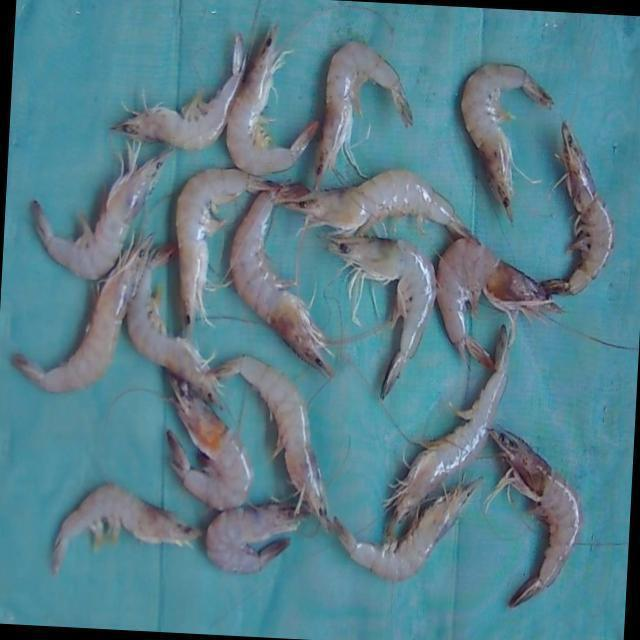shrimp: (387, 327, 511, 540), (12, 237, 150, 393), (230, 183, 333, 377), (217, 356, 329, 528), (32, 141, 170, 280), (175, 168, 283, 329), (330, 237, 437, 399), (489, 431, 583, 608), (438, 239, 562, 367), (112, 33, 246, 149), (286, 169, 482, 246), (334, 482, 481, 583), (315, 41, 413, 189), (462, 64, 554, 221), (127, 246, 218, 403), (227, 25, 319, 175), (51, 485, 201, 576), (542, 121, 615, 295), (167, 377, 253, 512), (206, 505, 307, 575)
